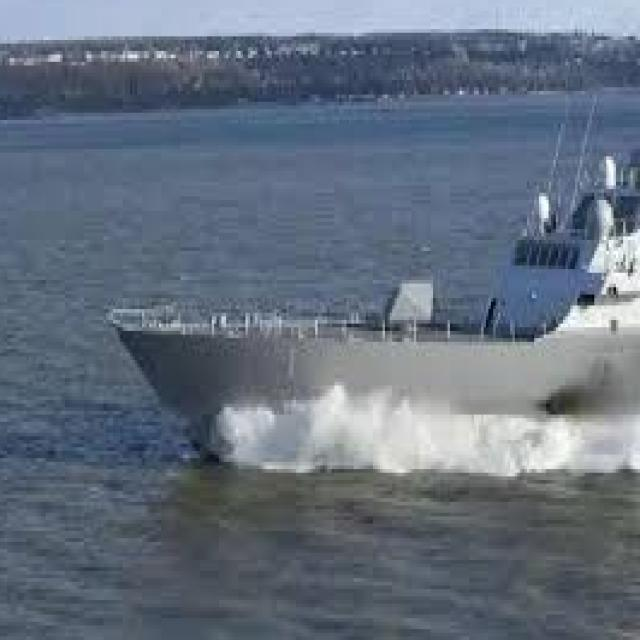navalvessels: (118, 73, 640, 429)
